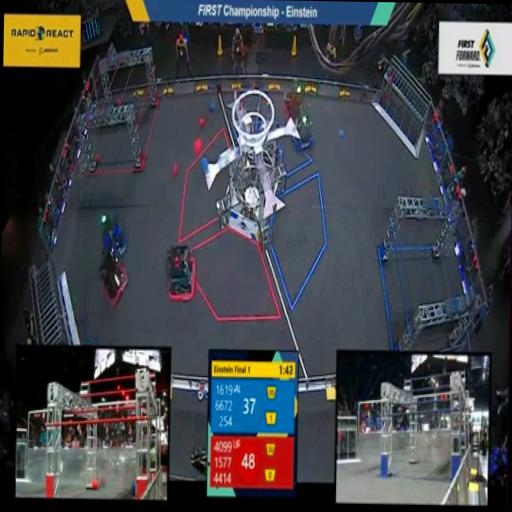robot: (160, 236, 198, 310), (96, 208, 132, 264), (98, 252, 130, 313), (288, 114, 316, 156), (280, 80, 306, 124)
